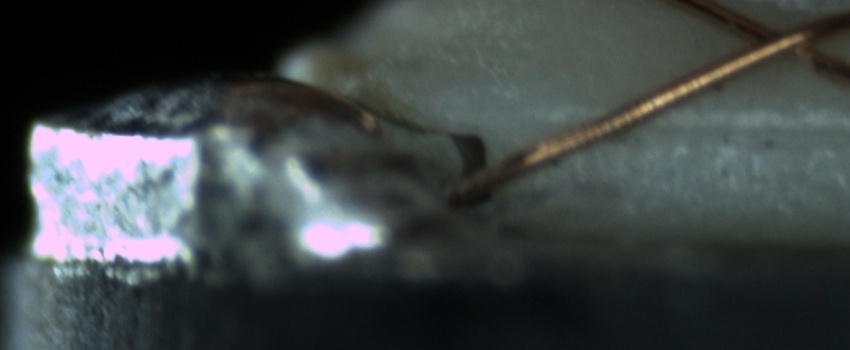CL: (711, 10, 841, 75)
DL: (548, 95, 846, 156)
